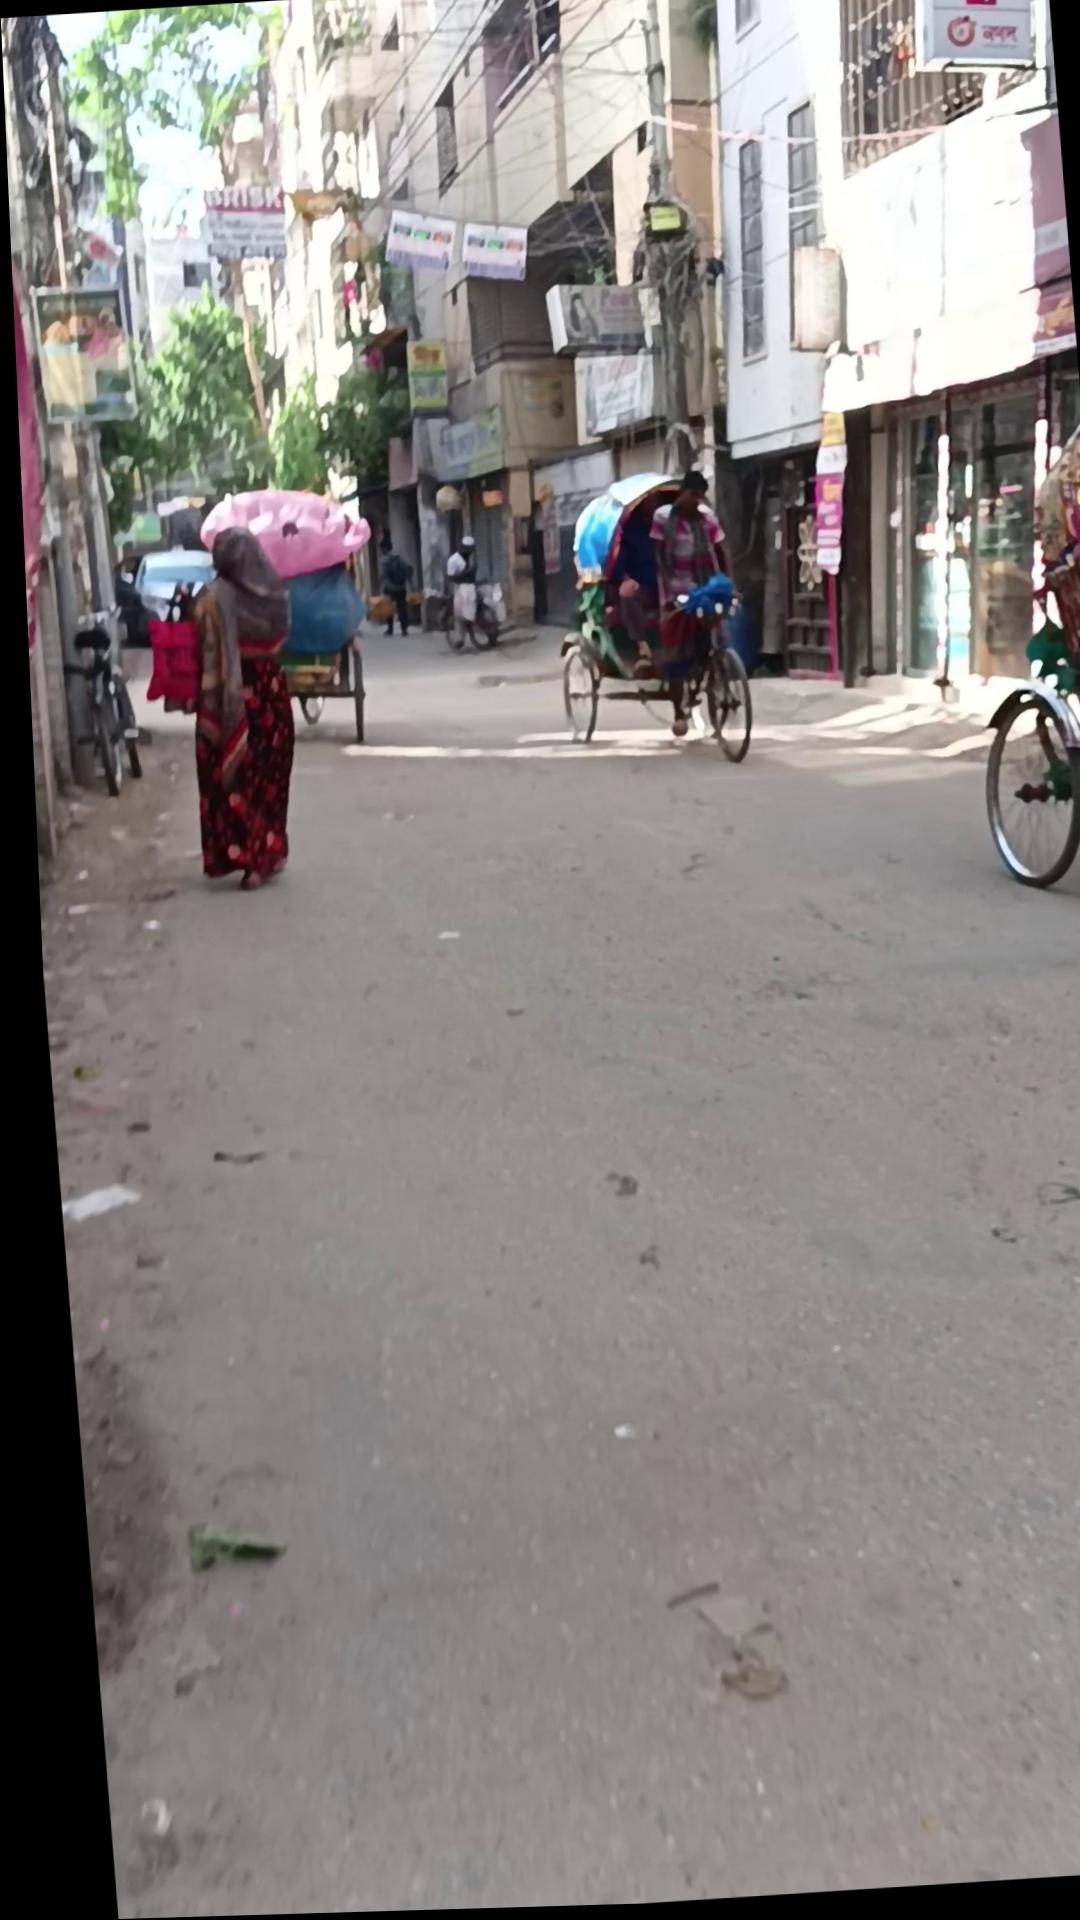Muddy road: (167, 524, 305, 895), (637, 472, 742, 744), (436, 538, 480, 657), (367, 535, 413, 640)
Pothole: (556, 473, 778, 771), (949, 426, 1080, 899), (967, 683, 1080, 898)
Stuck-water: (905, 0, 1042, 83)
